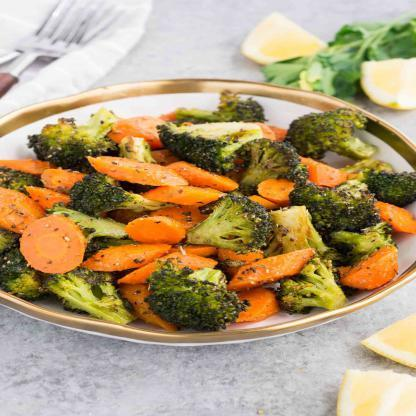broccoli: (0, 89, 416, 330)
